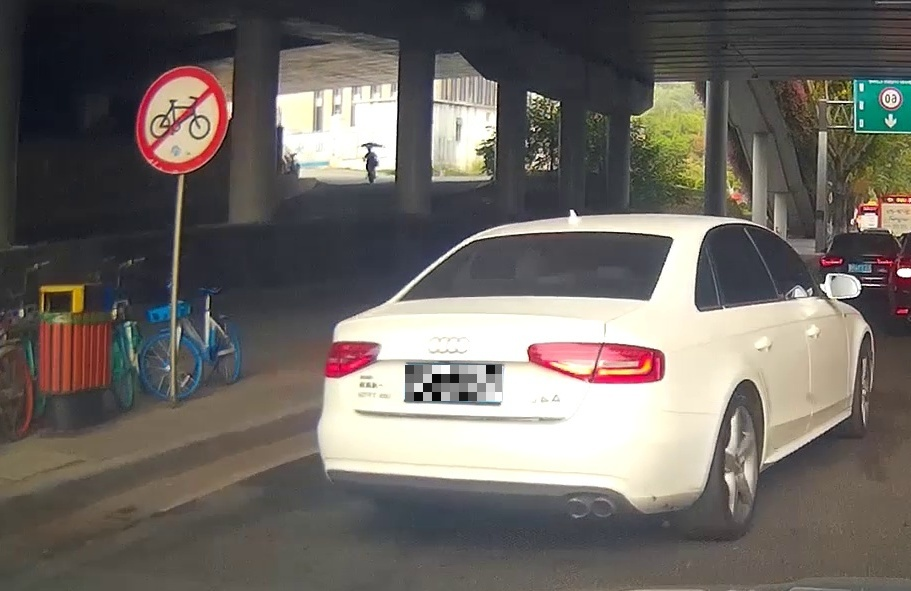L_light: (322, 339, 381, 378)
R_light: (528, 341, 667, 385)
T_light: (531, 233, 579, 241)
day-right: (315, 223, 687, 542)
plate_1: (405, 365, 502, 401)
